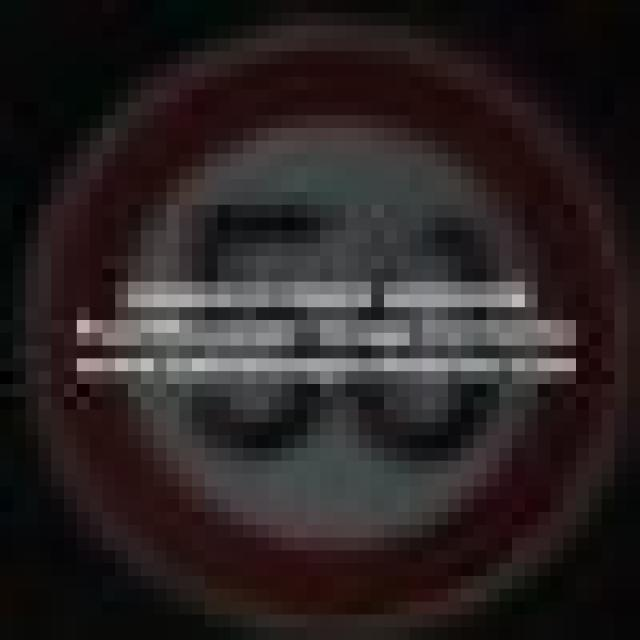speed_limit_30: (38, 38, 589, 589)
